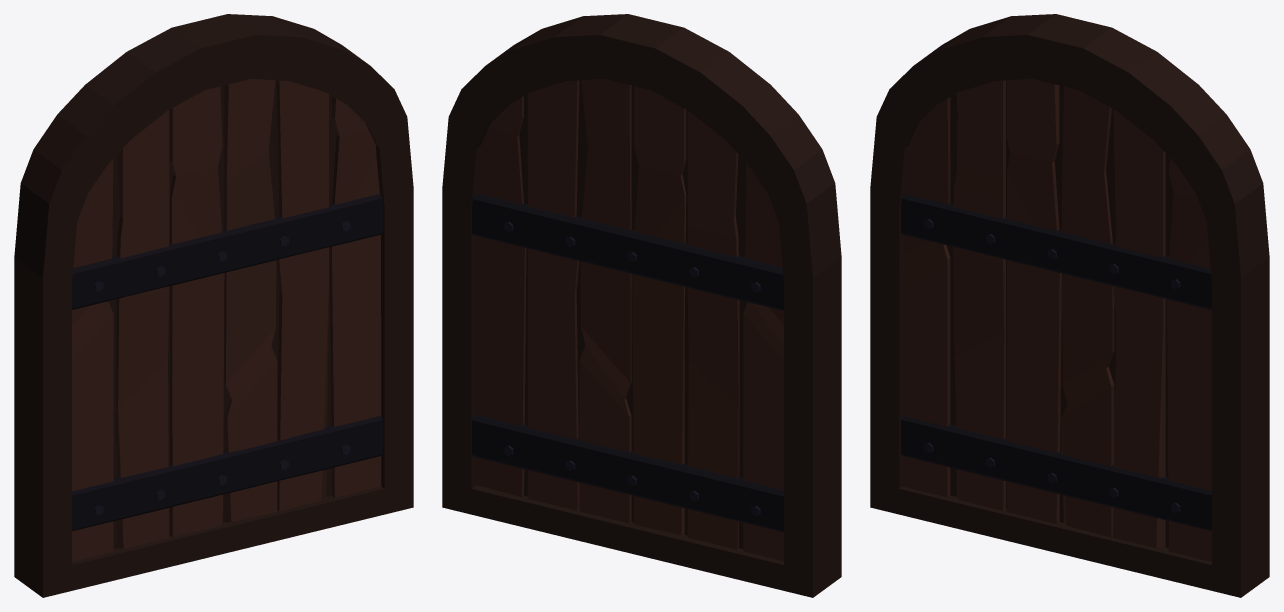
The model's file is Puerta.obj.
The picture shows the model from 3 angles, left to right: view 1: azimuth 30°, elevation 25°; view 2: azimuth 150°, elevation 25°; view 3: azimuth 330°, elevation 25°; orthographic projection.
Visible parts, largest first — view 1: Arch_Door_bottompivot_Cube.044_Wood, Arch_Door_bottompivot_Cube.044_DarkWood, Arch_Door_bottompivot_Cube.044_DarkMetal, Arch_Door_bottompivot_Cube.044_Metal; view 2: Arch_Door_bottompivot_Cube.044_Wood, Arch_Door_bottompivot_Cube.044_DarkWood, Arch_Door_bottompivot_Cube.044_DarkMetal, Arch_Door_bottompivot_Cube.044_Metal; view 3: Arch_Door_bottompivot_Cube.044_Wood, Arch_Door_bottompivot_Cube.044_DarkWood, Arch_Door_bottompivot_Cube.044_DarkMetal, Arch_Door_bottompivot_Cube.044_Metal.
Boxes of the visible parts, x1=… form: Arch_Door_bottompivot_Cube.044_Wood: x1=72, y1=78, x2=381, y2=561; Arch_Door_bottompivot_Cube.044_DarkWood: x1=14, y1=14, x2=413, y2=597; Arch_Door_bottompivot_Cube.044_DarkMetal: x1=72, y1=194, x2=382, y2=531; Arch_Door_bottompivot_Cube.044_Metal: x1=94, y1=221, x2=350, y2=515; Arch_Door_bottompivot_Cube.044_Wood: x1=476, y1=78, x2=783, y2=560; Arch_Door_bottompivot_Cube.044_DarkWood: x1=442, y1=14, x2=841, y2=597; Arch_Door_bottompivot_Cube.044_DarkMetal: x1=472, y1=193, x2=783, y2=532; Arch_Door_bottompivot_Cube.044_Metal: x1=504, y1=221, x2=760, y2=516; Arch_Door_bottompivot_Cube.044_Wood: x1=902, y1=78, x2=1211, y2=561; Arch_Door_bottompivot_Cube.044_DarkWood: x1=870, y1=14, x2=1269, y2=597; Arch_Door_bottompivot_Cube.044_DarkMetal: x1=901, y1=193, x2=1211, y2=531; Arch_Door_bottompivot_Cube.044_Metal: x1=924, y1=219, x2=1180, y2=513.
Size of the model in its own units: 2.42 by 3.19 by 0.3296.
